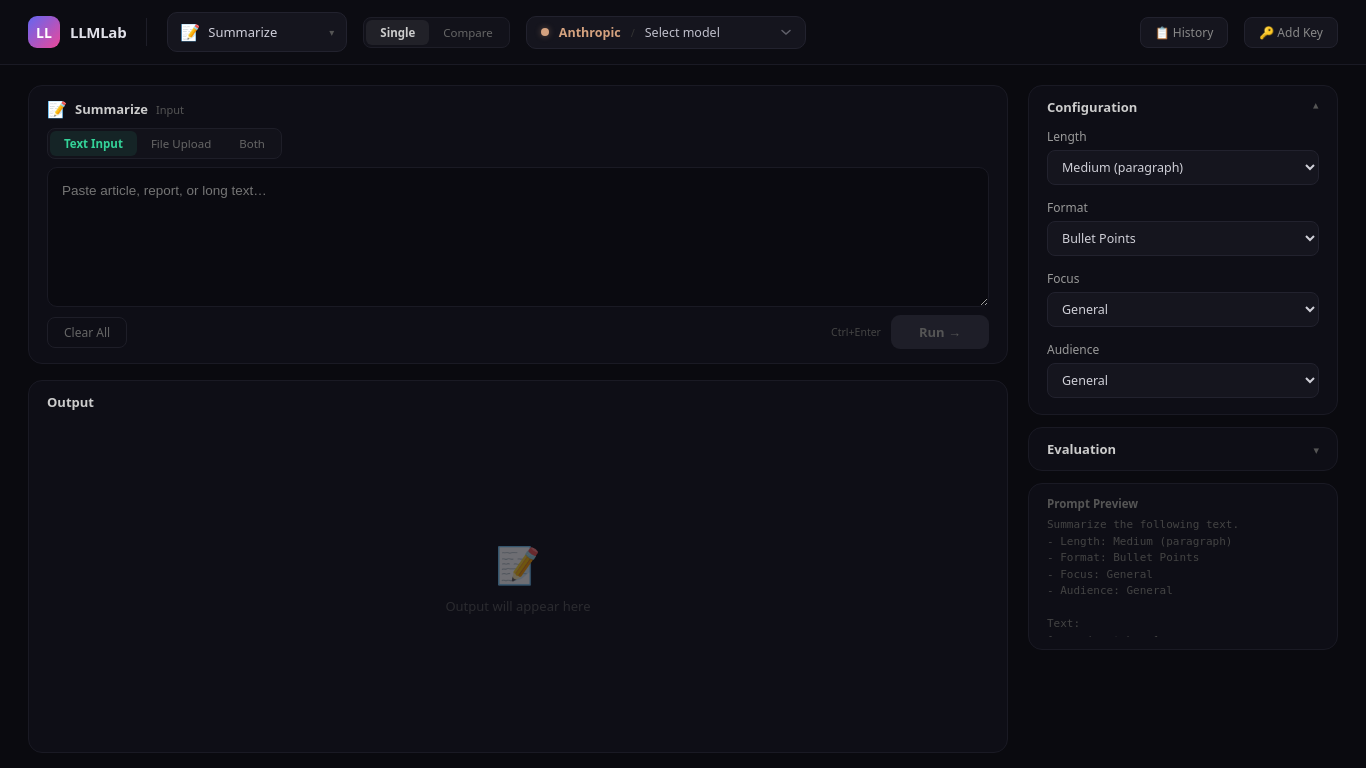
Test: App › toggles API key bar on button click
The image size is (1366, 768).
Step 1. Click the button "🔑 Add Key" → (1291, 32), box [1244,16,1338,48]
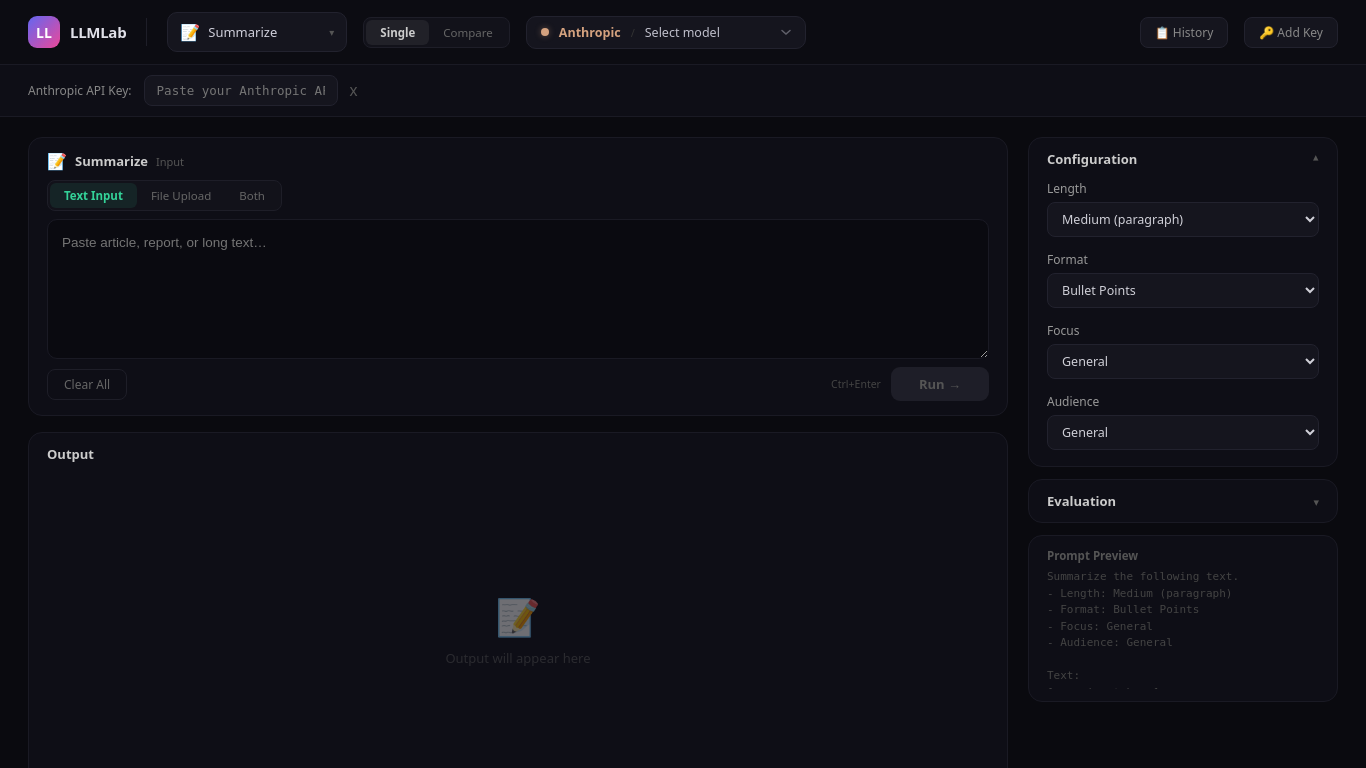
Check: the password field with placeholder "Paste your Anthropic API key here..." is shown, box [144,75,338,106]
